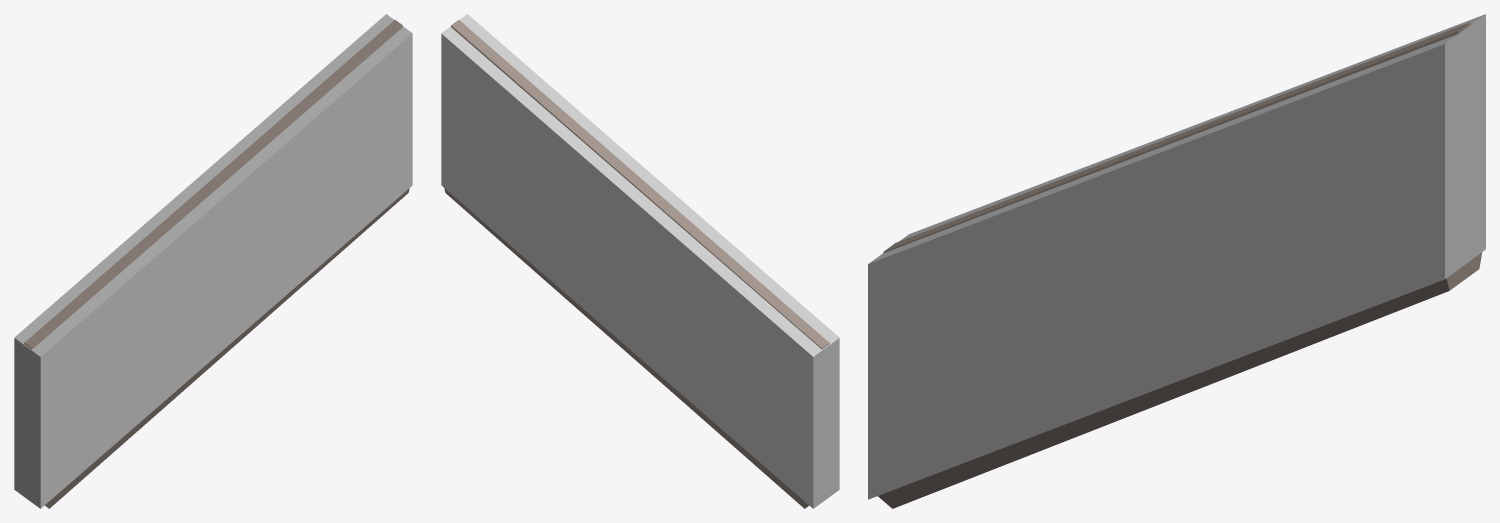
The model's file is SM_Bld_Stairs_Interior_02.fbx.
3 renders of one model, left to right at view 1: azimuth 30°, elevation 25°; view 2: azimuth 150°, elevation 25°; view 3: azimuth 330°, elevation 25°, orthographic. The views are drawn at different scales.
Visible parts, largest first — view 1: SM_Bld_Stairs_Interior_02_ConvexHulls, SM_Bld_Stairs_Interior_02; view 2: SM_Bld_Stairs_Interior_02_ConvexHulls, SM_Bld_Stairs_Interior_02; view 3: SM_Bld_Stairs_Interior_02_ConvexHulls, SM_Bld_Stairs_Interior_02.
Boxes of the visible parts, <box> form: SM_Bld_Stairs_Interior_02_ConvexHulls: <box>14,14,412,508</box>; SM_Bld_Stairs_Interior_02: <box>24,20,409,508</box>; SM_Bld_Stairs_Interior_02_ConvexHulls: <box>441,14,839,508</box>; SM_Bld_Stairs_Interior_02: <box>444,20,829,508</box>; SM_Bld_Stairs_Interior_02_ConvexHulls: <box>868,14,1485,499</box>; SM_Bld_Stairs_Interior_02: <box>878,22,1482,508</box>.
Size of the model in its own units: 251 by 30.85 by 252.
2 materials, 1 textured.
